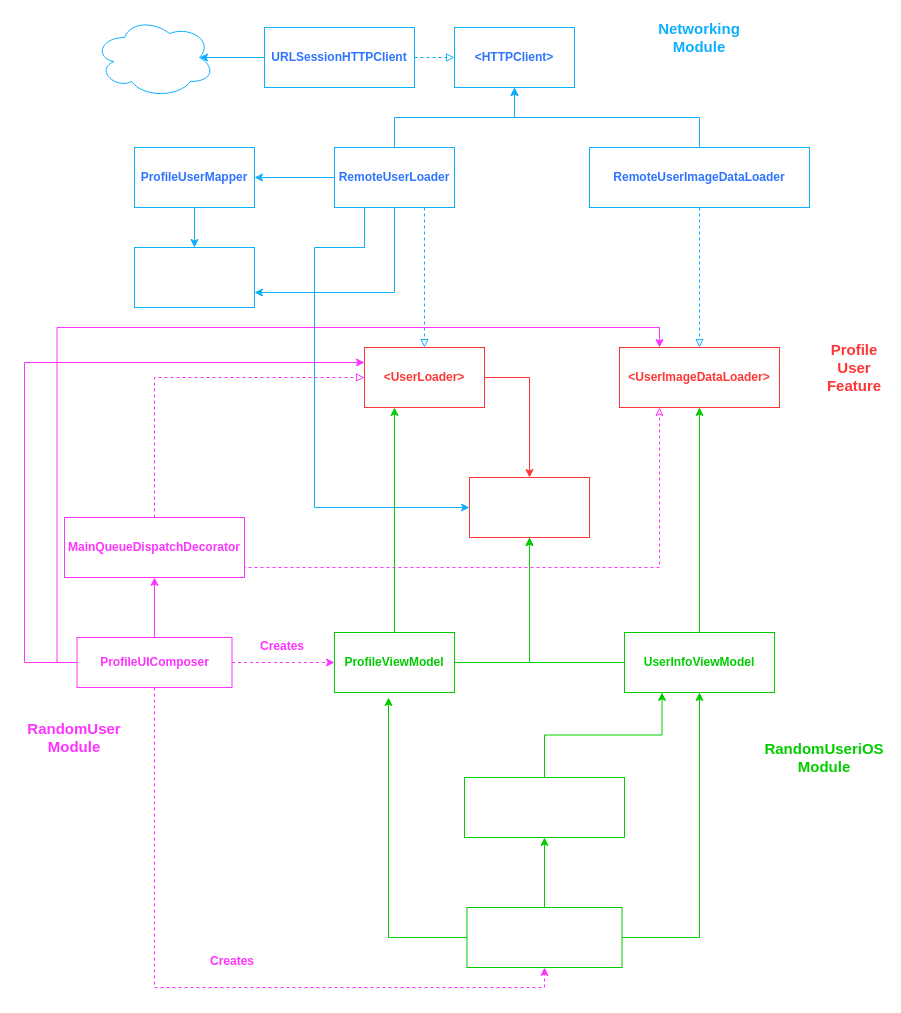
The diagram is 901 pixels wide and 1013 high, and some of its shapes have lost their labels. Each missing label, with the centre of its shape:
"ProfileView" goes at point 544,807.
"ProfileViewController" goes at point 544,937.
"Random user Backend" goes at point 154,57.
"RemoteUser" goes at point 194,277.
"User" goes at point 529,507.
